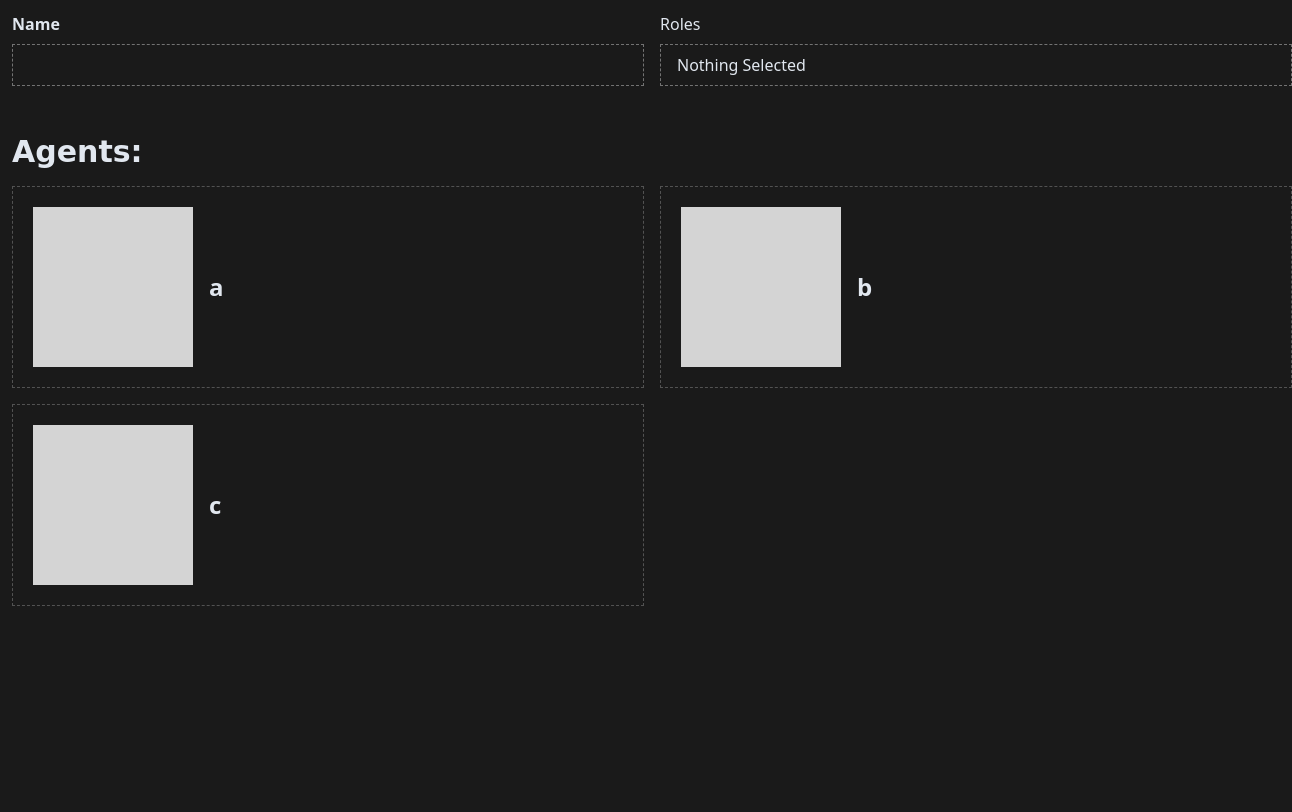
Test: testing the home page › should filter the agents and display them
This screenshot has width=1292, height=812.
expect the number of links with test id "agent-a" is 1: met, box 12,186 -> 644,388
expect the number of links with test id "agent-b" is 1: met, box 660,186 -> 1291,388
In the field with test id "filter-form-name-input": [328, 65] box 12,44 -> 644,86, type "a"
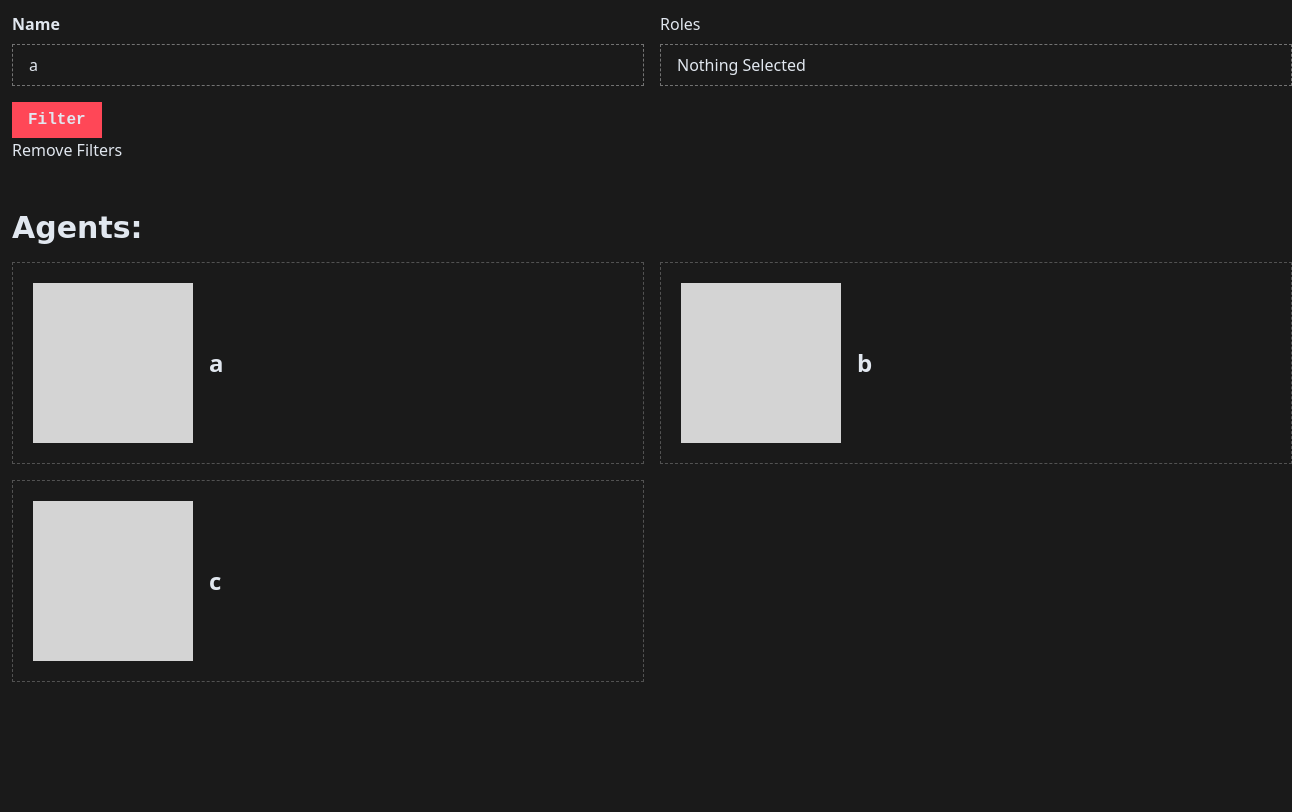
Submit the form from the button with test id "filter-btn", box 12,102 -> 102,138
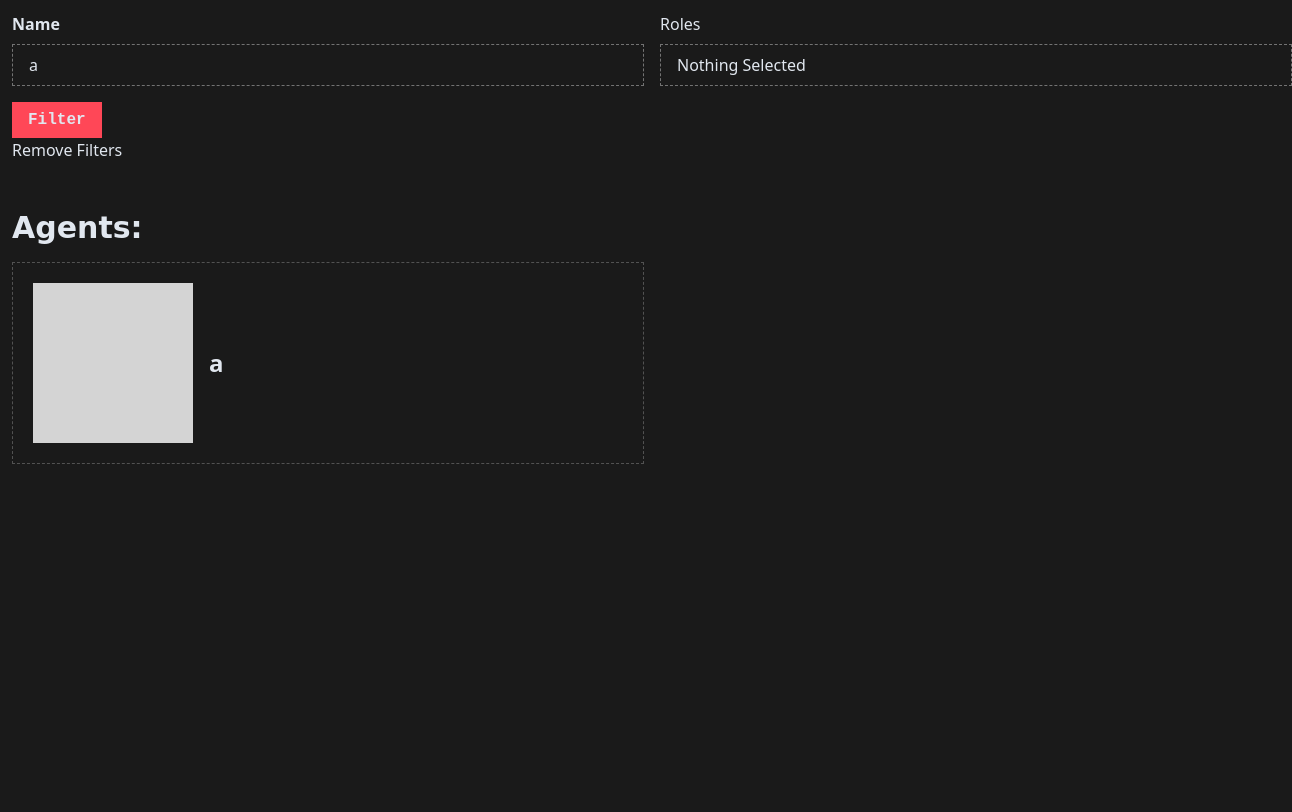
expect the number of links with test id "agent-a" is 1: met, box 12,262 -> 644,464
expect no links with test id "agent-b" are shown: met
expect no links with test id "agent-c" are shown: met
